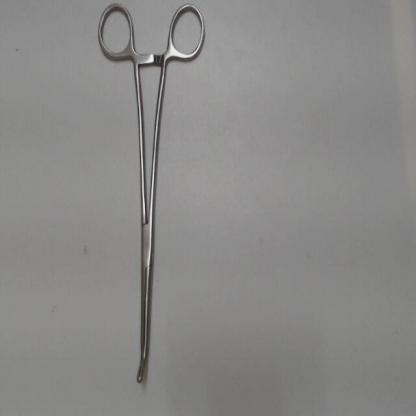Lahey Forceps: (91, 3, 213, 384)
